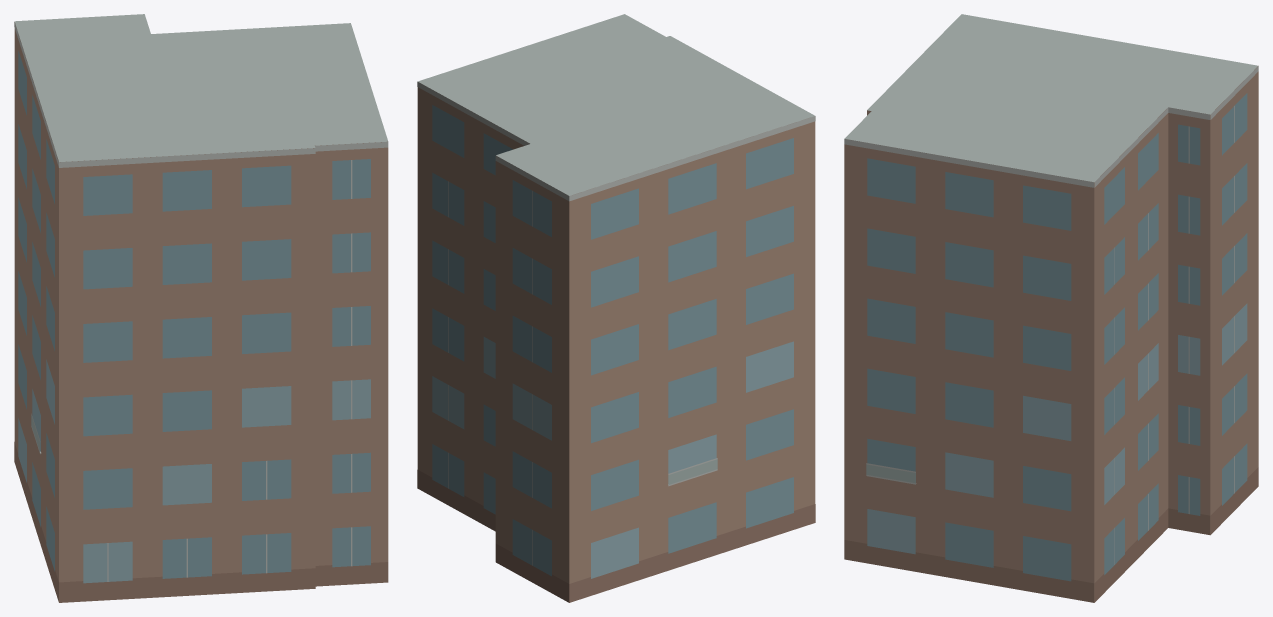
Rendered from survey-upis-32653920.glb.
3 views of the same model, side by side, from view 1: azimuth 30°, elevation 25°; view 2: azimuth 150°, elevation 25°; view 3: azimuth 270°, elevation 25° (orthographic). The views are drawn at different scales.
Visible parts, largest first — view 1: survey-upis-32653920.tmp; view 2: survey-upis-32653920.tmp; view 3: survey-upis-32653920.tmp.
Boxes of the visible parts, x1,y1,x2,y2 form: survey-upis-32653920.tmp: [14, 14, 388, 602]; survey-upis-32653920.tmp: [417, 14, 815, 602]; survey-upis-32653920.tmp: [844, 14, 1258, 602].
Size of the model in its own units: 15.71 by 18.3 by 16.34.
